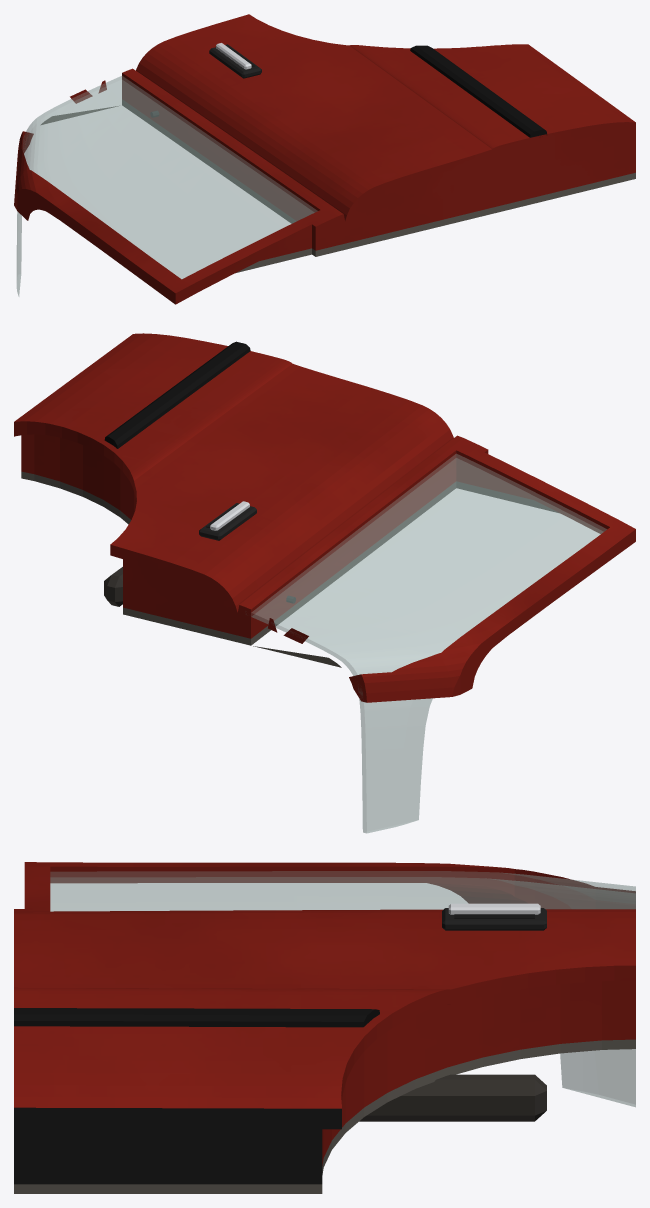
Rendered from porta_traseira_e.glb.
3 renders of one model, top to bottom at view 1: azimuth 30°, elevation 25°; view 2: azimuth 150°, elevation 25°; view 3: azimuth 270°, elevation 25°, orthographic. The views are drawn at different scales.
Visible parts, largest first — view 1: porta_traseira_e_pintura, porta_traseira_e_vidro, porta_traseira_e_forro_porta, porta_traseira_e_borracha, porta_traseira_e_plastico_preto; view 2: porta_traseira_e_pintura, porta_traseira_e_vidro, porta_traseira_e_forro_porta, porta_traseira_e_borracha, porta_traseira_e_plastico_preto; view 3: porta_traseira_e_pintura, porta_traseira_e_vidro, porta_traseira_e_chassi, porta_traseira_e_vinil, porta_traseira_e_borracha, porta_traseira_e_forro_porta, porta_traseira_e_plastico_preto, porta_traseira_e_cromado.
Part boxes in pixels (x1=…): porta_traseira_e_pintura: x1=14, y1=14, x2=635, y2=304; porta_traseira_e_vidro: x1=16, y1=76, x2=317, y2=296; porta_traseira_e_forro_porta: x1=41, y1=99, x2=635, y2=273; porta_traseira_e_borracha: x1=410, y1=45, x2=546, y2=137; porta_traseira_e_plastico_preto: x1=150, y1=44, x2=261, y2=117; porta_traseira_e_pintura: x1=14, y1=333, x2=635, y2=702; porta_traseira_e_vidro: x1=251, y1=454, x2=606, y2=833; porta_traseira_e_forro_porta: x1=21, y1=471, x2=559, y2=667; porta_traseira_e_borracha: x1=104, y1=341, x2=250, y2=448; porta_traseira_e_plastico_preto: x1=199, y1=503, x2=295, y2=603; porta_traseira_e_pintura: x1=14, y1=862, x2=635, y2=1165; porta_traseira_e_vidro: x1=50, y1=871, x2=635, y2=1107; porta_traseira_e_chassi: x1=14, y1=914, x2=534, y2=1184; porta_traseira_e_vinil: x1=359, y1=1074, x2=546, y2=1121; porta_traseira_e_borracha: x1=14, y1=1008, x2=379, y2=1027; porta_traseira_e_forro_porta: x1=14, y1=1039, x2=635, y2=1193; porta_traseira_e_plastico_preto: x1=442, y1=908, x2=546, y2=930; porta_traseira_e_cromado: x1=448, y1=903, x2=540, y2=914.
Size of the model in its own units: 0.997 by 0.4504 by 0.77.
Materials: 9 (1 with a texture image).
